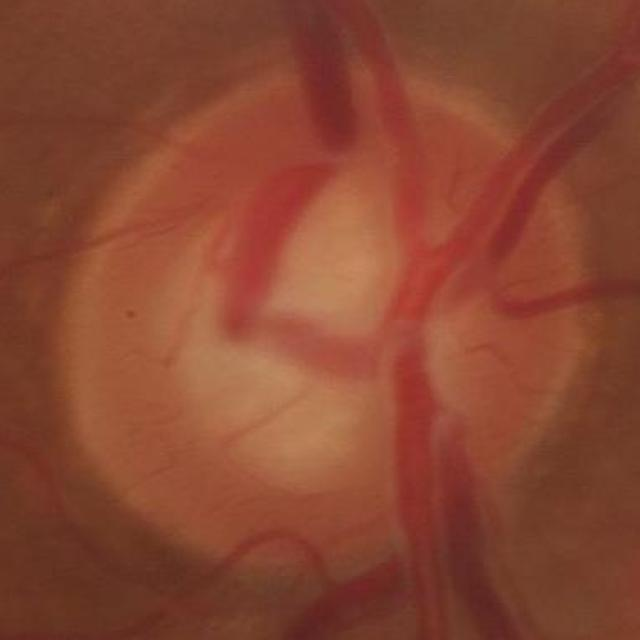OC: (161, 152, 457, 481)
OD: (64, 59, 576, 599)
